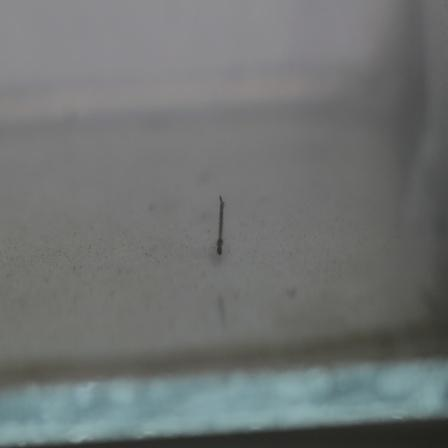Jentik-Nyamuk: (213, 193, 229, 261)
